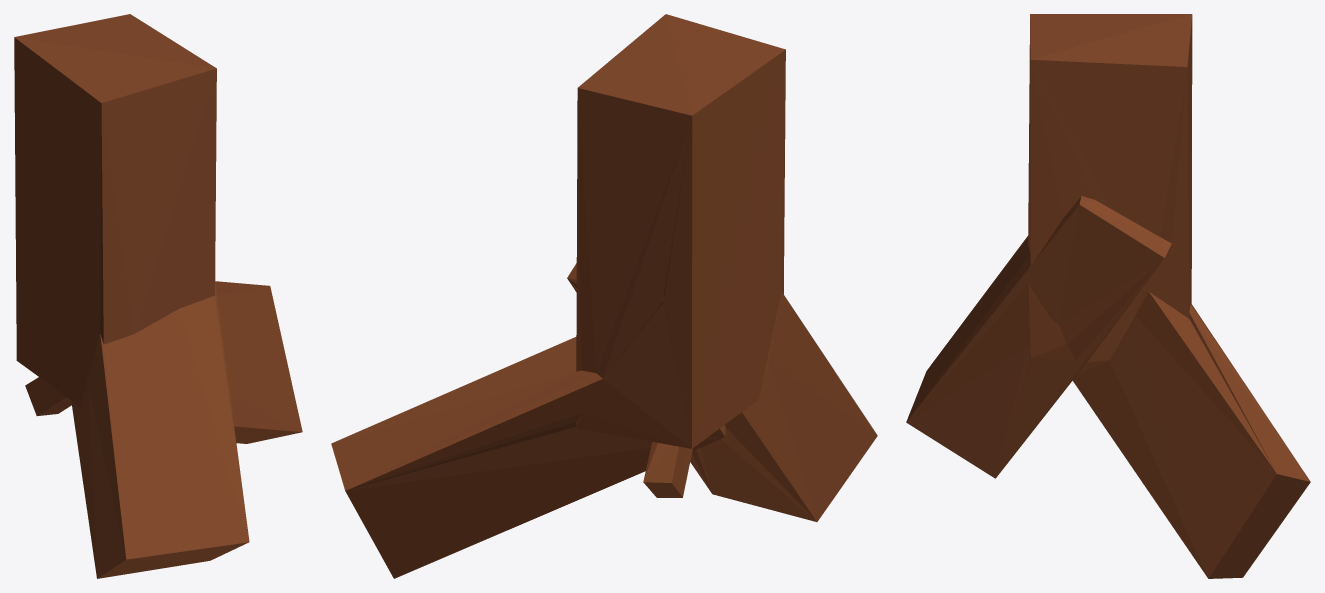
3 views of the same model, side by side, from view 1: azimuth 30°, elevation 25°; view 2: azimuth 150°, elevation 25°; view 3: azimuth 270°, elevation 25° (orthographic). The views are drawn at different scales.
Visible parts, largest first — view 1: 640_Cube.2574; view 2: 640_Cube.2574; view 3: 640_Cube.2574.
Boxes of the visible parts, box(x1,y1,x2,y2) form: 640_Cube.2574: box(14, 14, 302, 578); 640_Cube.2574: box(331, 14, 877, 578); 640_Cube.2574: box(906, 14, 1310, 578).
Bounding box in the file's own units: 12.88 × 18.18 × 14.72.
